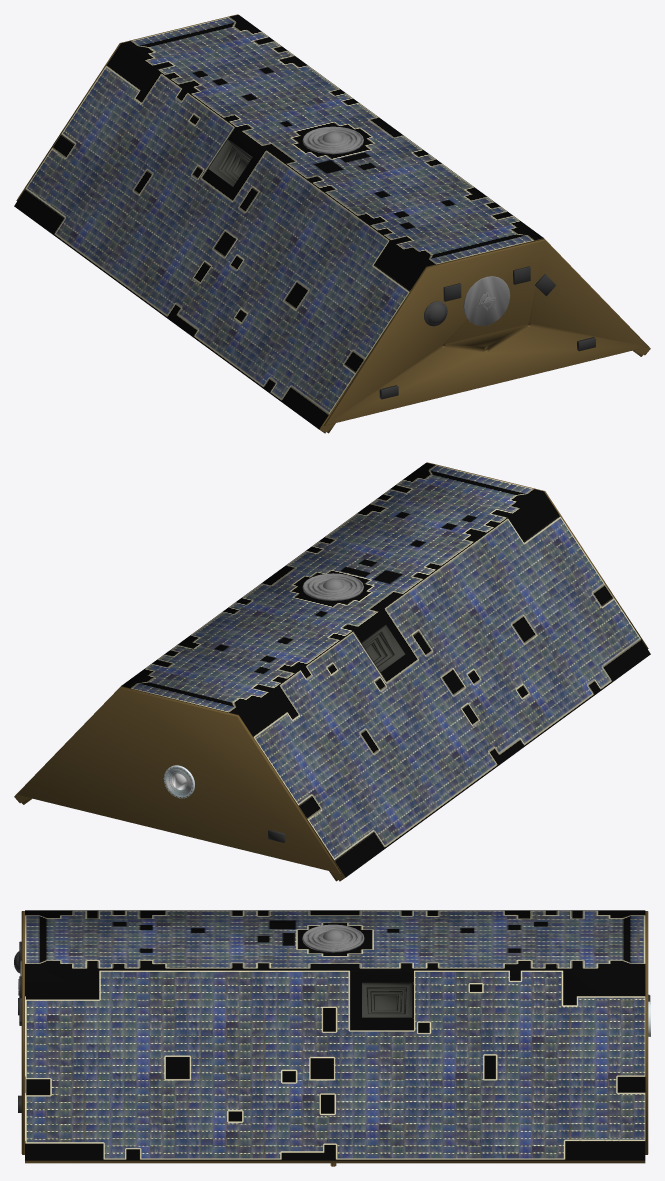
Rendered from GRACE.fbx.
The picture shows the model from 3 angles, top to bottom: view 1: azimuth 30°, elevation 25°; view 2: azimuth 150°, elevation 25°; view 3: azimuth 270°, elevation 25°; orthographic projection.
Parts seen in each view (by area): view 1: Mesh; view 2: Mesh; view 3: Mesh.
Boxes of the visible parts, x1=… form: Mesh: x1=14, y1=14, x2=650, y2=433; Mesh: x1=14, y1=462, x2=650, y2=881; Mesh: x1=14, y1=910, x2=650, y2=1166.
Bounding box in the file's own units: 23.71 × 15.76 × 38.79.
